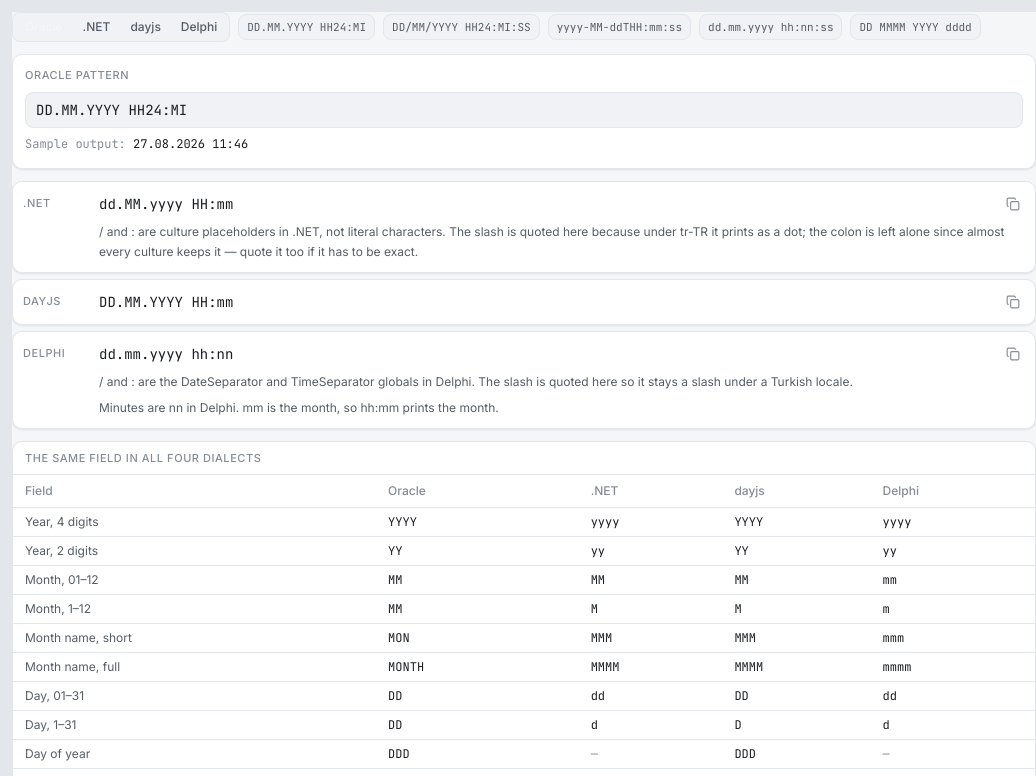
Test: DateFormatTool › hazır kalıp hem kalıbı hem kaynak lehçeyi değiştirir
Click the button "dd.mm.yyyy hh:nn:ss".
click(771, 27)  # box [699,14,842,40]
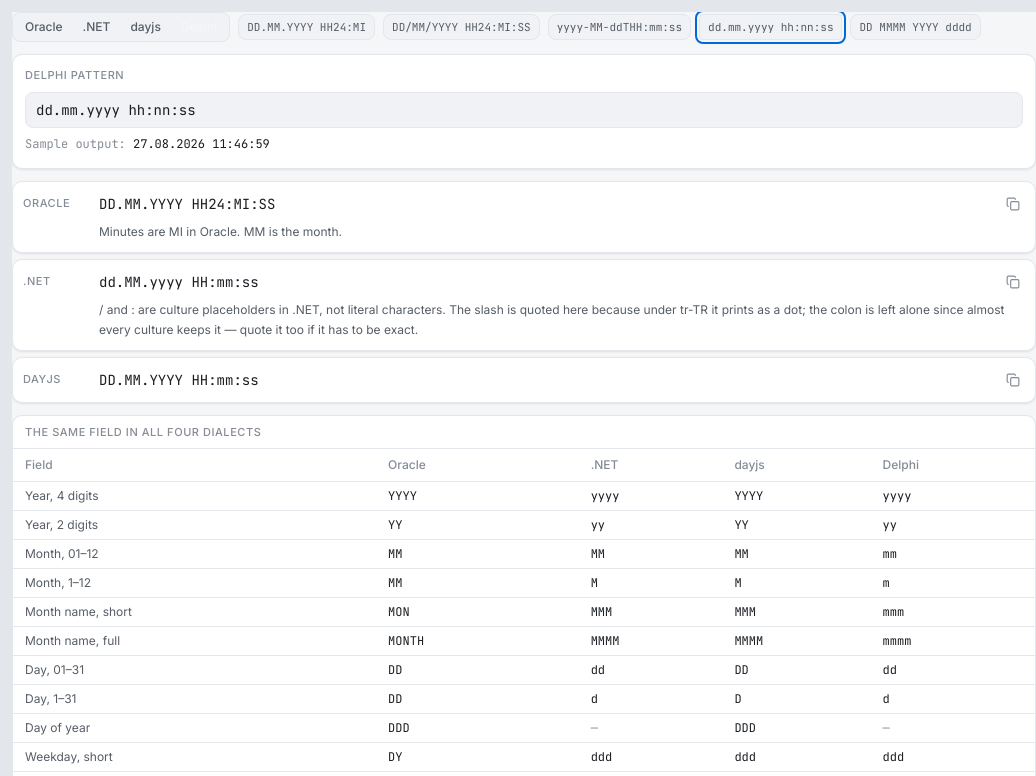
Expected: the field holds "dd.mm.yyyy hh:nn:ss", [25,92,1023,128]
Expected: the text "DD.MM.YYYY HH24:MI:SS" is shown, [99,194,275,212]
